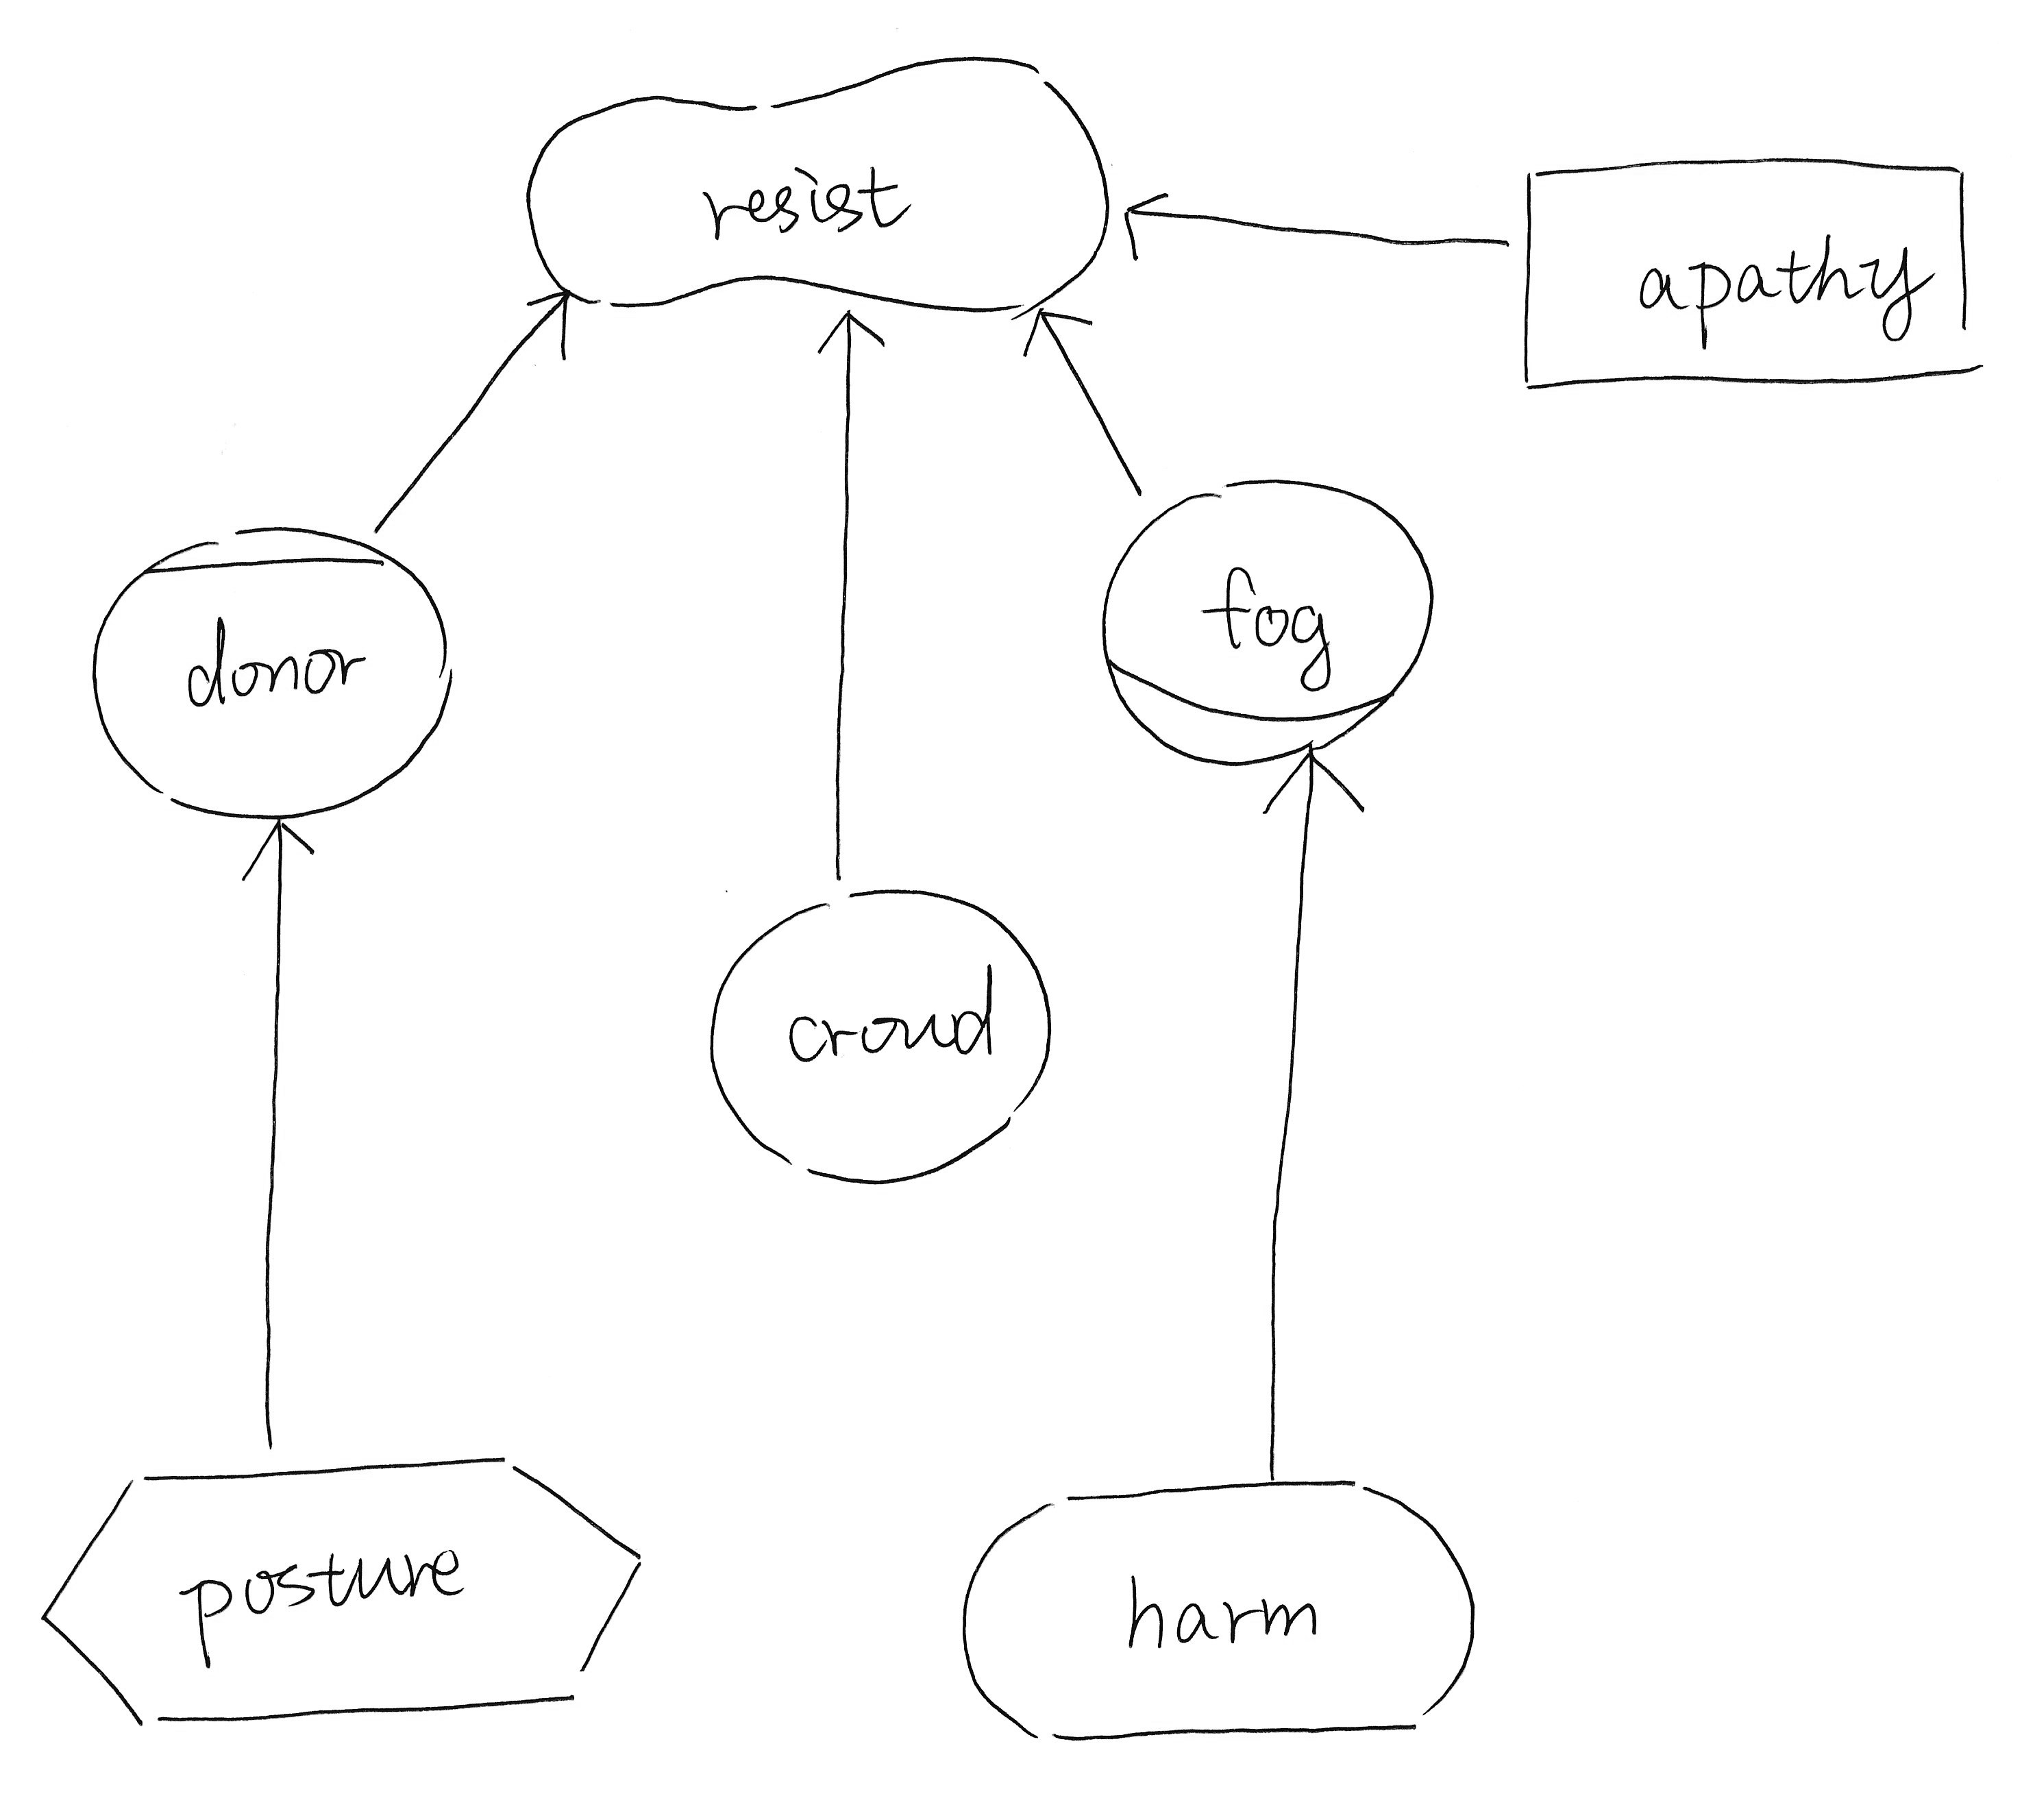actor: (685, 866, 1075, 1203)
agent: (74, 511, 467, 834)
arrow: (1257, 736, 1378, 827), (1010, 295, 1108, 376), (228, 810, 328, 889), (506, 278, 581, 374), (1110, 174, 1180, 278), (804, 299, 895, 367)
goal: (946, 1458, 1491, 1759)
quality: (504, 35, 1127, 343)
resource: (1503, 137, 1996, 408)
role: (1082, 453, 1452, 782)
task: (26, 1434, 664, 1739)
